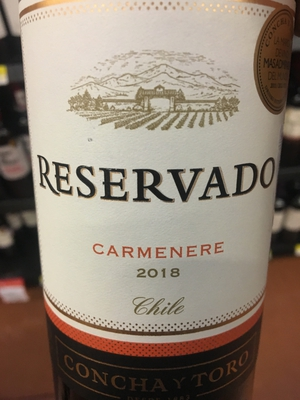reservado carmenere: (21, 4, 290, 400)
